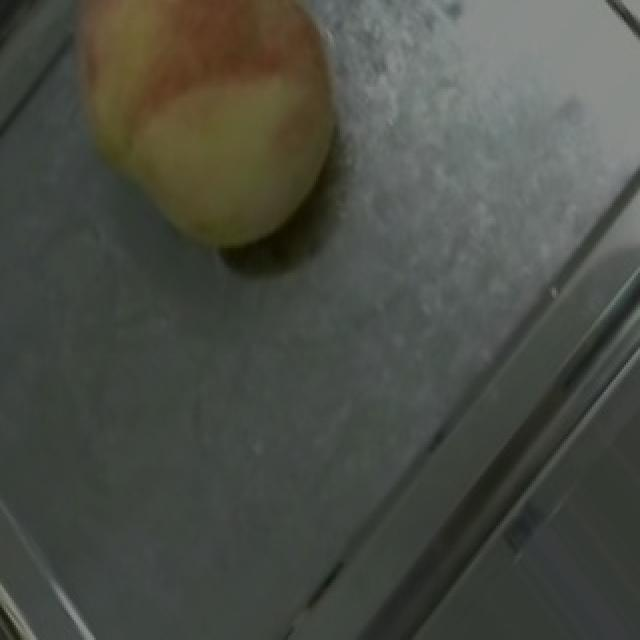Fruit: (26, 0, 366, 293)
